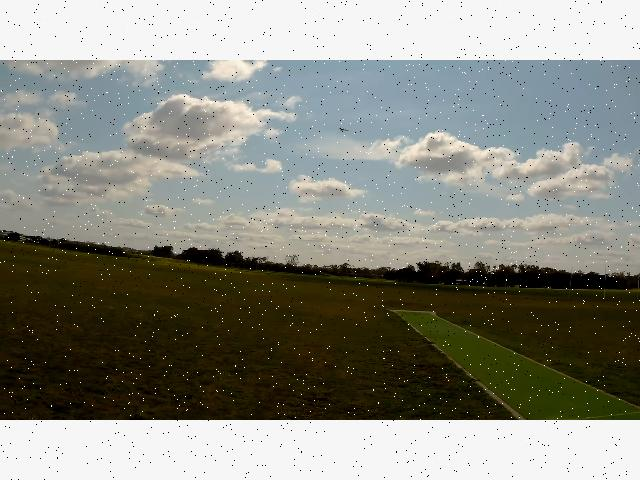Anti-Drone: (328, 117, 360, 143)
